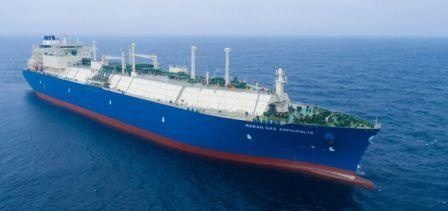Cargoship: (18, 24, 381, 187)
